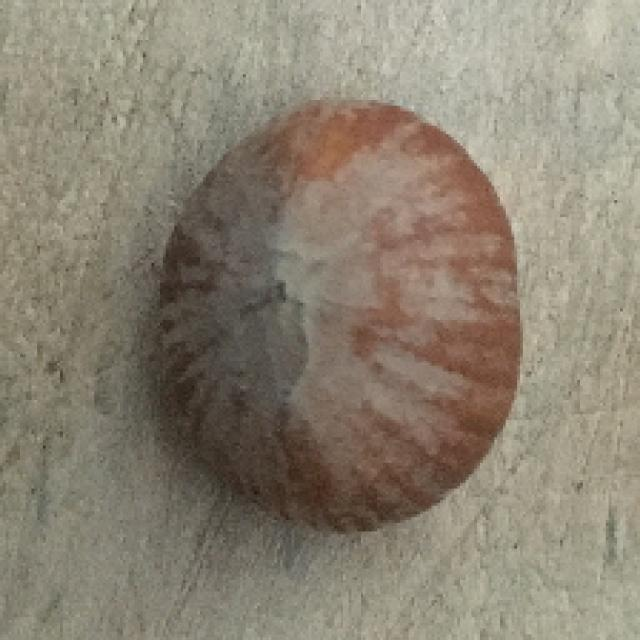qualityHazelnut: (159, 95, 525, 537)
